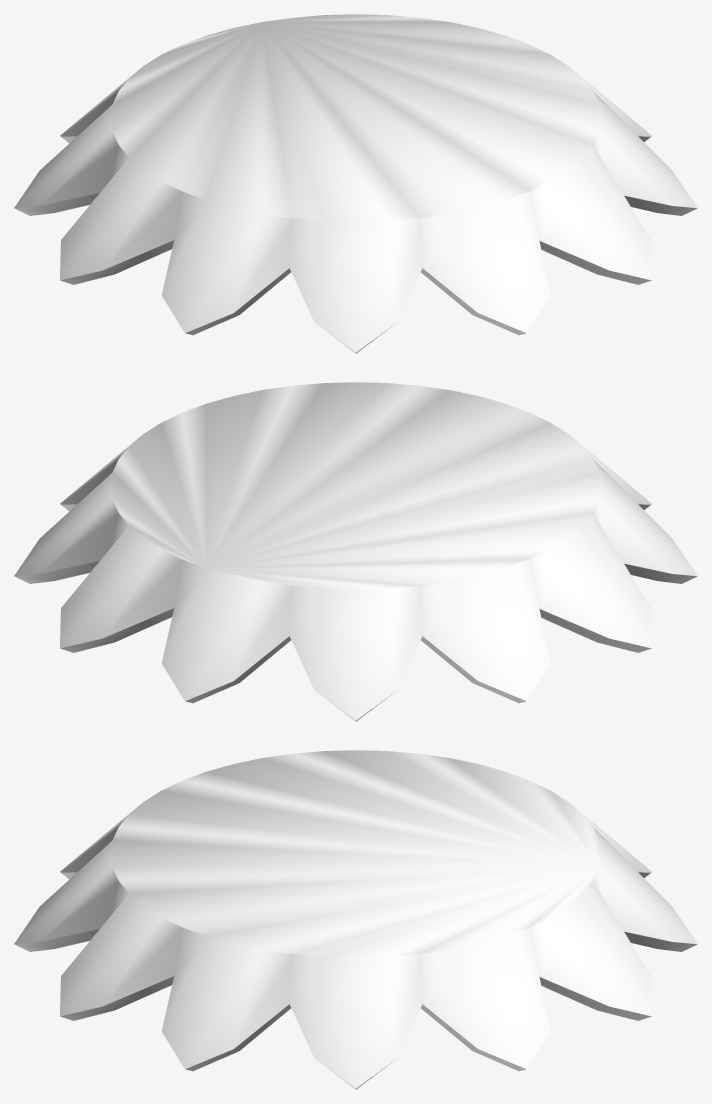
Rendered from ruffles1.fbx.
3 renders of one model, top to bottom at view 1: azimuth 30°, elevation 25°; view 2: azimuth 150°, elevation 25°; view 3: azimuth 270°, elevation 25°, orthographic.
Parts seen in each view (by area): view 1: ruffles1; view 2: ruffles1; view 3: ruffles1.
Part boxes in pixels (box(x1,y1,x2,y2)): ruffles1: box(14, 14, 697, 353); ruffles1: box(14, 382, 697, 721); ruffles1: box(14, 750, 697, 1089).
Size of the model in its own units: 78.12 by 12.36 by 78.12.
1 material, 1 textured.
